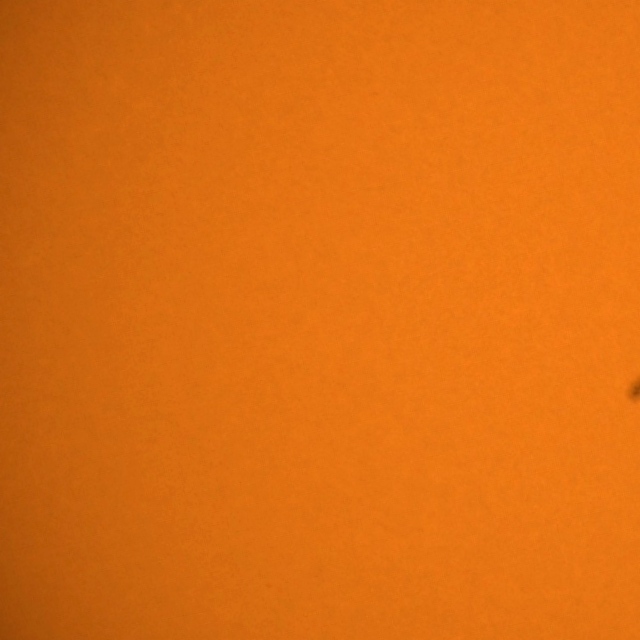sunspot: (625, 378, 640, 406)
